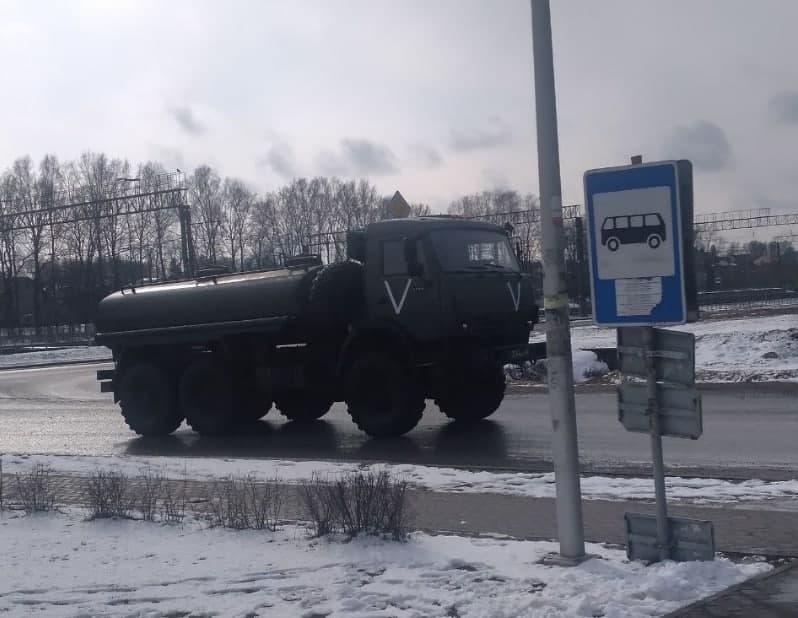truck: (78, 211, 545, 457)
